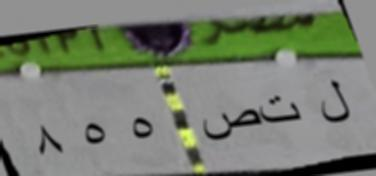5: (79, 114, 112, 162), (128, 111, 157, 152)
8: (32, 124, 67, 168)
laam: (314, 72, 355, 139)
saad: (198, 107, 262, 147)
taa: (258, 89, 304, 130)
